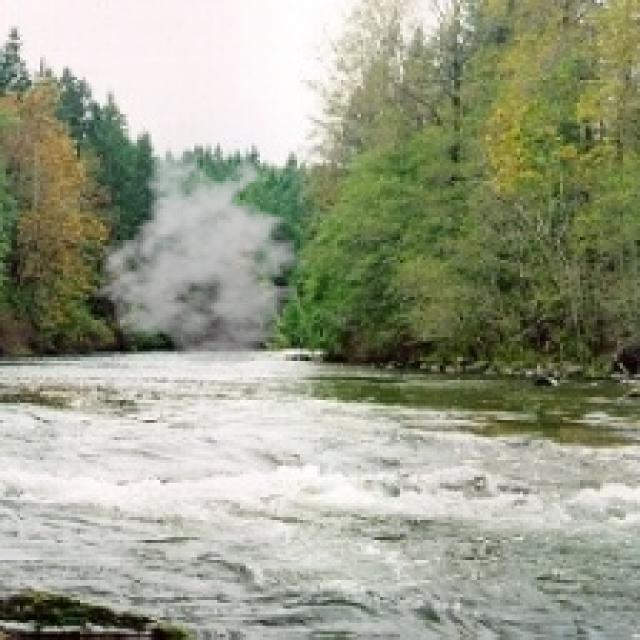Smoke: (91, 148, 326, 368)
